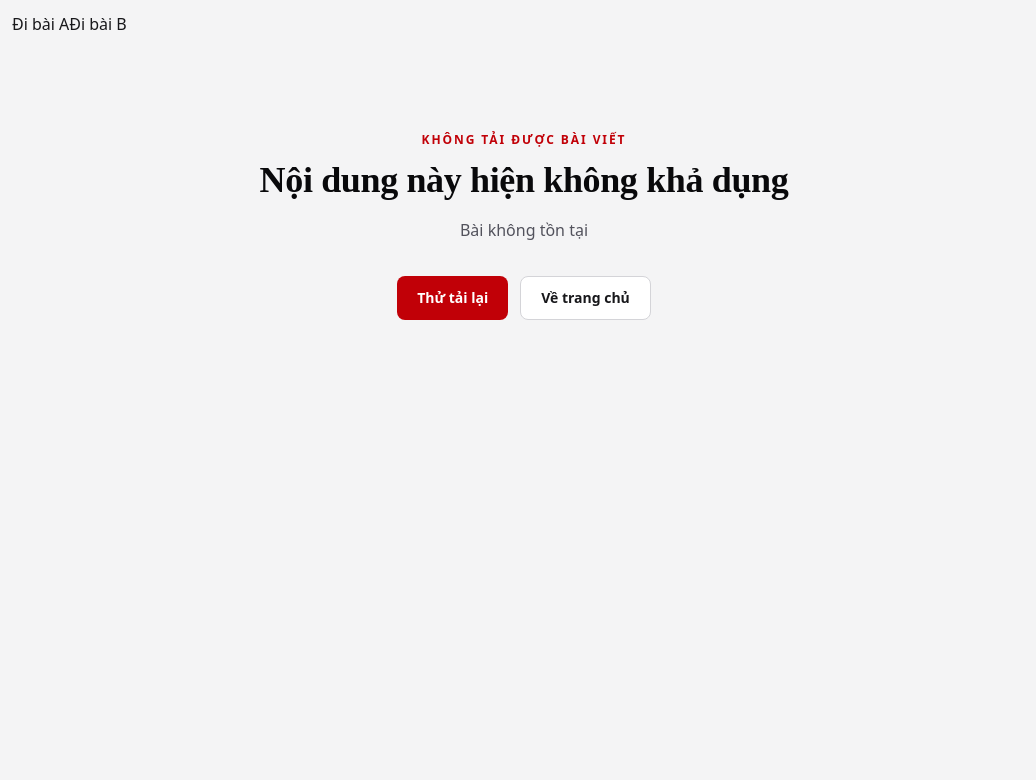
Test case: PostDetailPage hồi quy và badge cache › lỗi GET không tăng view và có thể thử lại
expect the message reads "Bài không tồn tại": met, box 460,219 -> 588,241
Click the button "Thử tải lại" at (453,298), box 397,276 -> 508,320
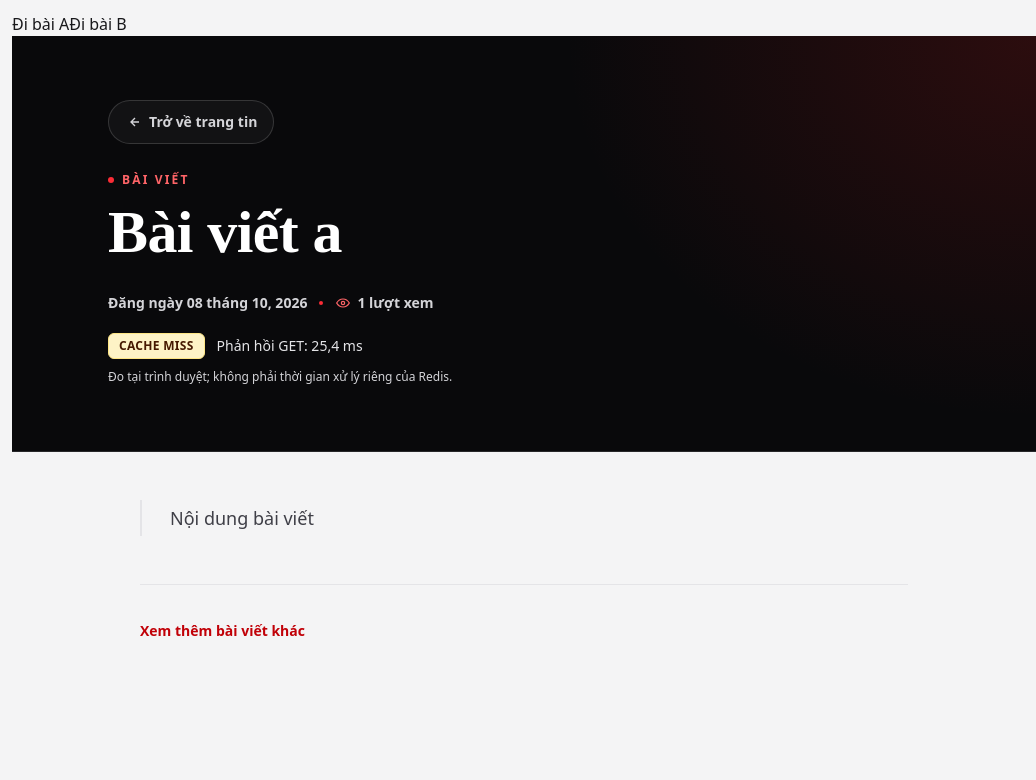
expect the heading "Bài viết a" is shown: met, box 108,199 -> 342,265
